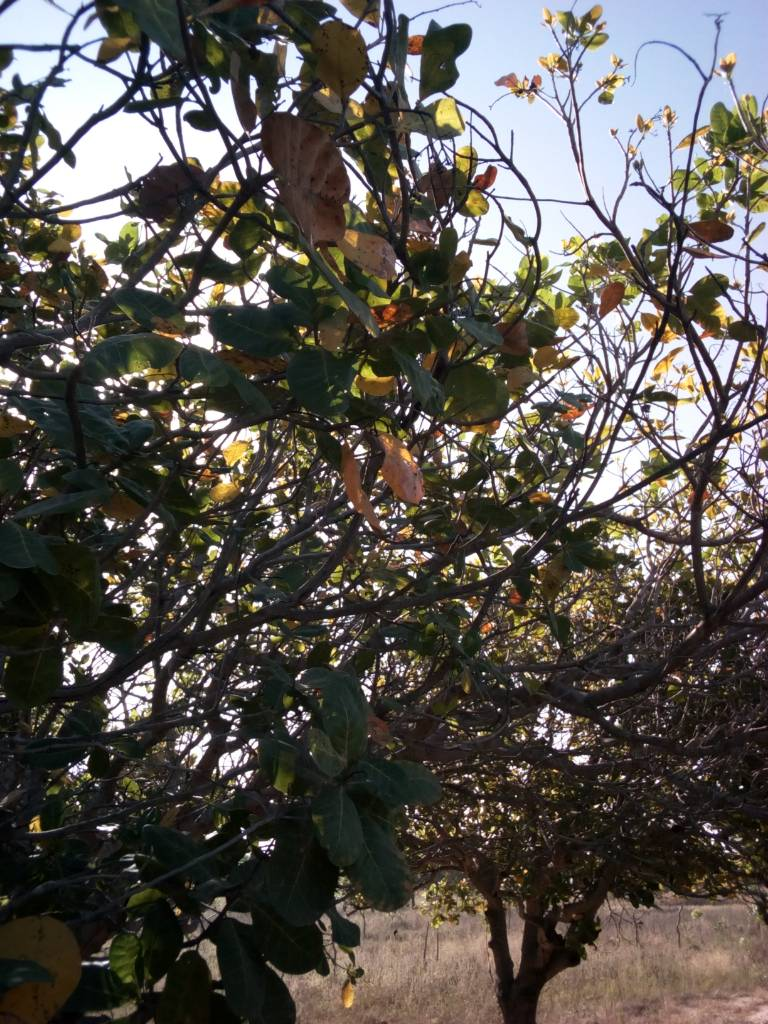Anthracnose: (260, 111, 352, 246), (344, 239, 405, 292)
